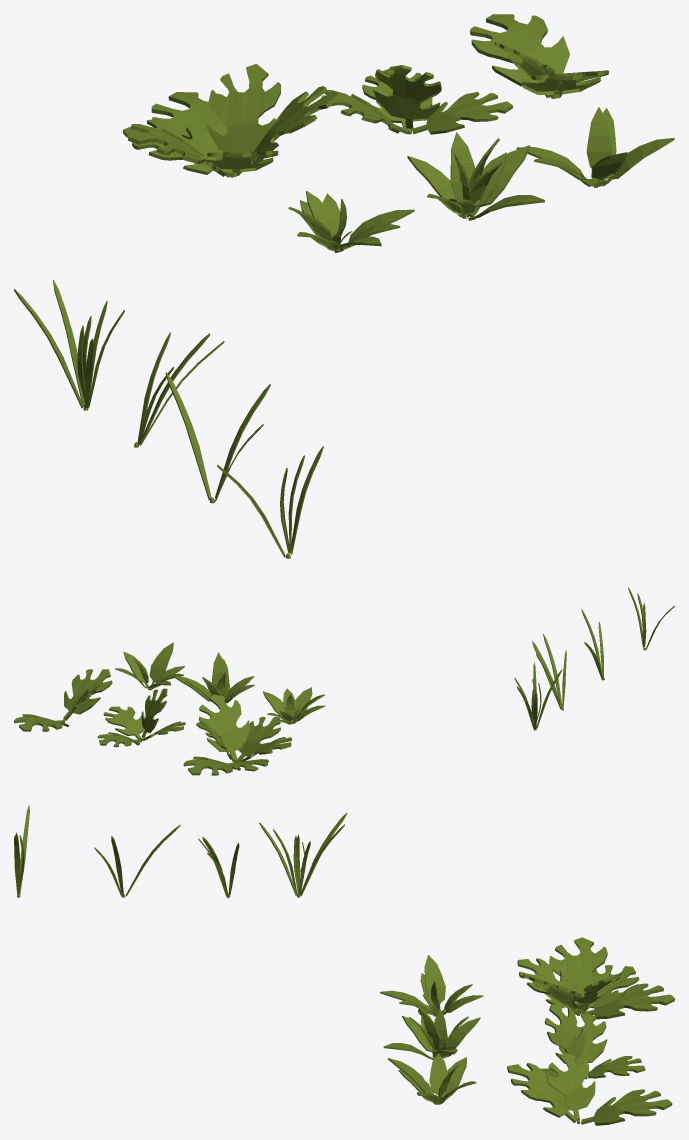
Rendered from Plants.fbx.
The picture shows the model from 3 angles, top to bottom: view 1: azimuth 30°, elevation 25°; view 2: azimuth 150°, elevation 25°; view 3: azimuth 270°, elevation 25°; orthographic projection. The views are drawn at different scales.
Visible parts, largest first — view 1: Monstera1|Plane.001|Dupli|, Monstera3|Plane.001|Dupli|2, Monstera2|Plane.001|Dupli|, Monstera1|Plane.001|Dupli|4, Monstera2|Plane.001|Dupli|3, Monstera1|Plane.001|Dupli|1, Monstera1|Plane.001|Dupli|3, Monstera3|Plane.001|Dupli|, Monstera1|Plane.001|Dupli|5, Monstera1|Plane.001|Dupli|2, Monstera2|Plane.001|Dupli|1, Shrub3|Plane|Dupli| (+5 smaller); view 2: Monstera1|Plane.001|Dupli|1, Monstera3|Plane.001|Dupli|, Monstera1|Plane.001|Dupli|2, Monstera2|Plane.001|Dupli|3, Monstera2|Plane.001|Dupli|, Monstera1|Plane.001|Dupli|4, Monstera3|Plane.001|Dupli|2, Shrub3|Plane|Dupli|3, Shrub2|Plane|Dupli|5, Monstera1|Plane.001|Dupli|3, Monstera2|Plane.001|Dupli|2, Monstera1|Plane.001|Dupli|5 (+1 smaller); view 3: Monstera1|Plane.001|Dupli|3, Monstera3|Plane.001|Dupli|1, Monstera3|Plane.001|Dupli|2, Monstera3|Plane.001|Dupli|, Monstera1|Plane.001|Dupli|4, Monstera2|Plane.001|Dupli|, Monstera2|Plane.001|Dupli|1, Monstera1|Plane.001|Dupli|2, Monstera1|Plane.001|Dupli|1, Monstera2|Plane.001|Dupli|2, Monstera1|Plane.001|Dupli|5, Monstera1|Plane.001|Dupli| (+2 smaller).
Boxes of the visible parts, bbox=[...] form: Monstera1|Plane.001|Dupli|: bbox=[207, 64, 280, 152]; Monstera3|Plane.001|Dupli|2: bbox=[470, 14, 569, 97]; Monstera2|Plane.001|Dupli|: bbox=[372, 65, 441, 131]; Monstera1|Plane.001|Dupli|4: bbox=[151, 92, 227, 177]; Monstera2|Plane.001|Dupli|3: bbox=[413, 92, 512, 134]; Monstera1|Plane.001|Dupli|1: bbox=[236, 86, 340, 175]; Monstera1|Plane.001|Dupli|3: bbox=[128, 124, 233, 177]; Monstera3|Plane.001|Dupli|: bbox=[521, 70, 608, 98]; Monstera1|Plane.001|Dupli|5: bbox=[123, 119, 228, 177]; Monstera1|Plane.001|Dupli|2: bbox=[200, 150, 278, 176]; Monstera2|Plane.001|Dupli|1: bbox=[321, 90, 407, 134]; Shrub3|Plane|Dupli|: bbox=[586, 107, 612, 167]; Monstera1|Plane.001|Dupli|1: bbox=[199, 694, 249, 761]; Monstera3|Plane.001|Dupli|: bbox=[63, 669, 112, 720]; Monstera1|Plane.001|Dupli|2: bbox=[237, 716, 280, 761]; Monstera2|Plane.001|Dupli|3: bbox=[103, 706, 143, 739]; Monstera2|Plane.001|Dupli|: bbox=[141, 688, 167, 738]; Monstera1|Plane.001|Dupli|4: bbox=[183, 756, 240, 775]; Monstera3|Plane.001|Dupli|2: bbox=[14, 714, 69, 731]; Shrub3|Plane|Dupli|3: bbox=[149, 642, 173, 684]; Shrub2|Plane|Dupli|5: bbox=[211, 652, 229, 695]; Monstera1|Plane.001|Dupli|3: bbox=[238, 737, 291, 761]; Monstera2|Plane.001|Dupli|2: bbox=[97, 732, 141, 747]; Monstera1|Plane.001|Dupli|5: bbox=[225, 759, 268, 771]; Monstera1|Plane.001|Dupli|3: bbox=[549, 937, 610, 994]; Monstera3|Plane.001|Dupli|1: bbox=[546, 1052, 595, 1120]; Monstera3|Plane.001|Dupli|2: bbox=[581, 1089, 672, 1125]; Monstera3|Plane.001|Dupli|: bbox=[507, 1063, 576, 1122]; Monstera1|Plane.001|Dupli|4: bbox=[581, 983, 674, 1019]; Monstera2|Plane.001|Dupli|: bbox=[544, 1004, 585, 1065]; Monstera2|Plane.001|Dupli|1: bbox=[559, 1013, 607, 1067]; Monstera1|Plane.001|Dupli|2: bbox=[517, 958, 575, 1013]; Monstera1|Plane.001|Dupli|1: bbox=[522, 974, 589, 1015]; Monstera2|Plane.001|Dupli|2: bbox=[587, 1056, 645, 1078]; Monstera1|Plane.001|Dupli|5: bbox=[584, 965, 639, 1011]; Monstera1|Plane.001|Dupli|: bbox=[571, 972, 623, 1014].
Bounding box in the file's own units: 1773 × 253 × 1889.
